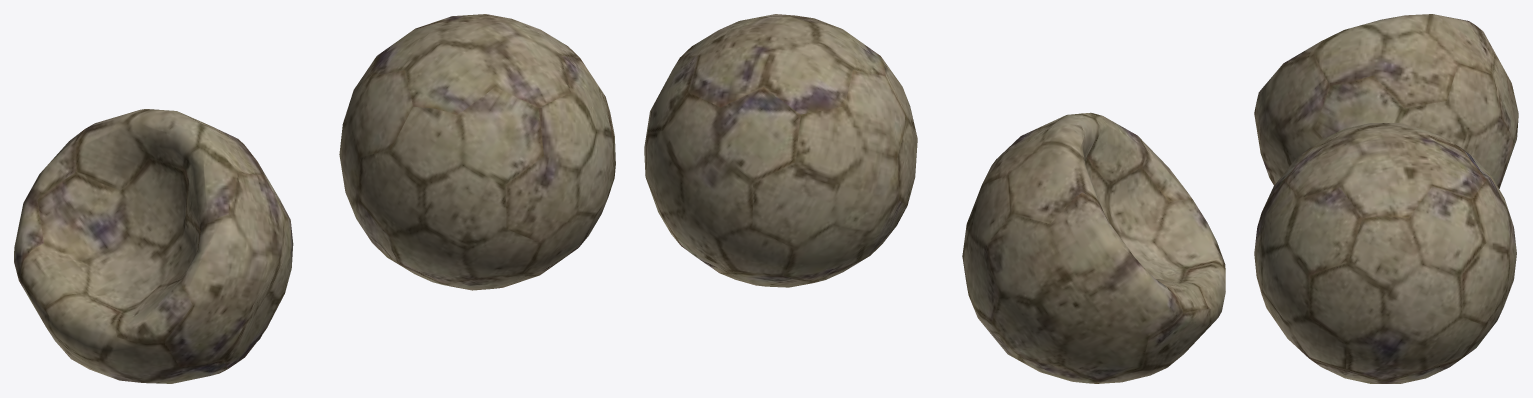
File: football.l.0c315299.glb
The picture shows the model from 3 angles, left to right: view 1: azimuth 30°, elevation 25°; view 2: azimuth 150°, elevation 25°; view 3: azimuth 270°, elevation 25°; orthographic projection. The views are drawn at different scales.
Parts seen in each view (by area): view 1: football_inflated, football_deflated; view 2: football_inflated, football_deflated; view 3: football_inflated, football_deflated.
Boxes of the visible parts, x1,y1,x2,y2 form: football_inflated: [339, 14, 615, 290]; football_deflated: [14, 109, 293, 383]; football_inflated: [644, 14, 917, 287]; football_deflated: [962, 112, 1225, 383]; football_inflated: [1254, 123, 1516, 383]; football_deflated: [1254, 14, 1518, 188].
Size of the model in its own units: 0.5078 by 0.2219 by 0.2222.
1 material, 1 textured.
